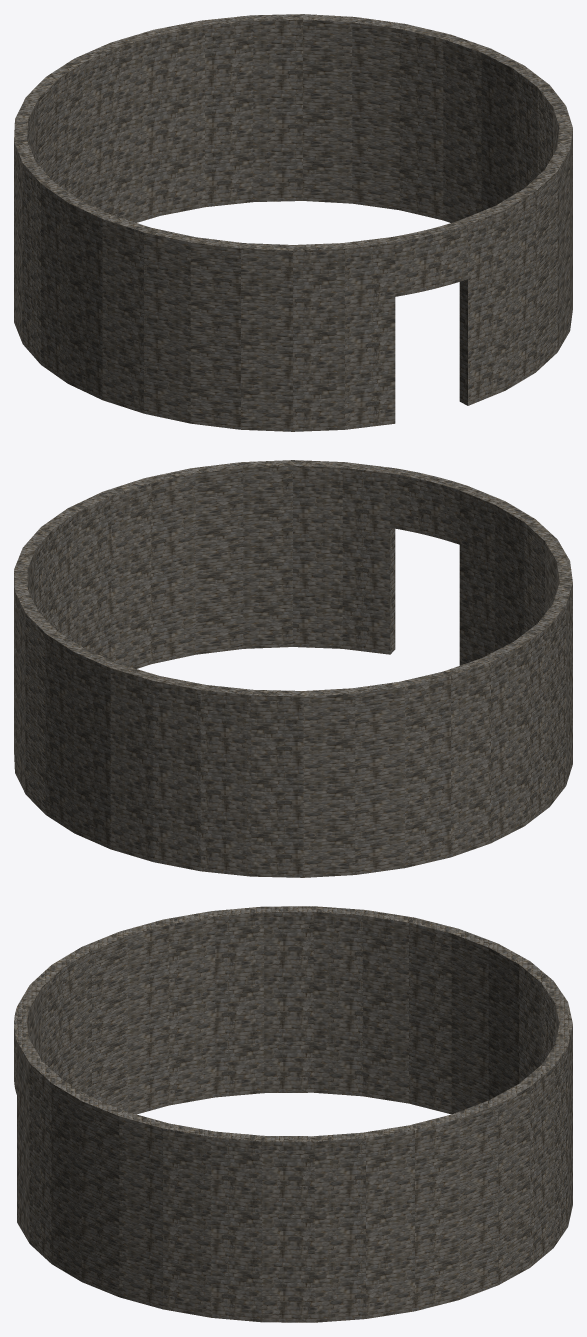
File: Tower_Section_8m.glb
3 views of the same model, one above another, from view 1: azimuth 30°, elevation 25°; view 2: azimuth 150°, elevation 25°; view 3: azimuth 270°, elevation 25° (orthographic).
Visible parts, largest first — view 1: tower_wall, tower_lintel; view 2: tower_wall, tower_lintel; view 3: tower_wall, tower_lintel.
Part boxes in pixels (x1,y1,x2,y2): tower_wall: (14,14,572,431); tower_lintel: (391,220,467,296); tower_wall: (14,460,572,877); tower_lintel: (390,468,467,544); tower_wall: (17,906,572,1322); tower_lintel: (14,1006,30,1094).
Size of the model in its own units: 8.38 by 3 by 8.4.
1 material, 1 textured.
